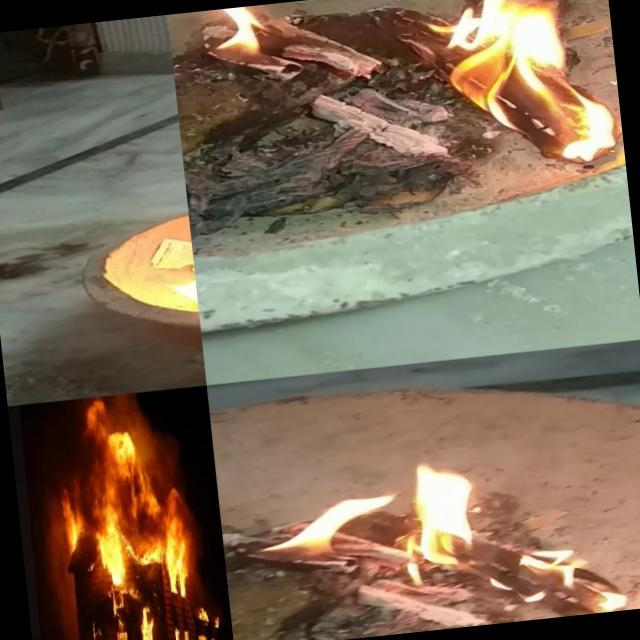fire: (218, 420, 624, 640), (429, 0, 625, 179), (134, 207, 200, 335), (182, 5, 267, 66), (156, 504, 190, 594), (91, 502, 126, 588), (104, 423, 142, 474), (57, 492, 85, 554), (108, 584, 140, 620), (191, 602, 221, 640), (80, 398, 106, 440), (136, 540, 162, 578), (134, 602, 159, 640), (144, 474, 160, 516), (104, 469, 117, 502), (173, 621, 193, 640), (90, 618, 106, 640), (111, 631, 131, 640), (85, 558, 96, 574)
smoke: (114, 470, 150, 542), (180, 502, 200, 577), (84, 436, 106, 504), (75, 469, 94, 534), (165, 482, 182, 504)
